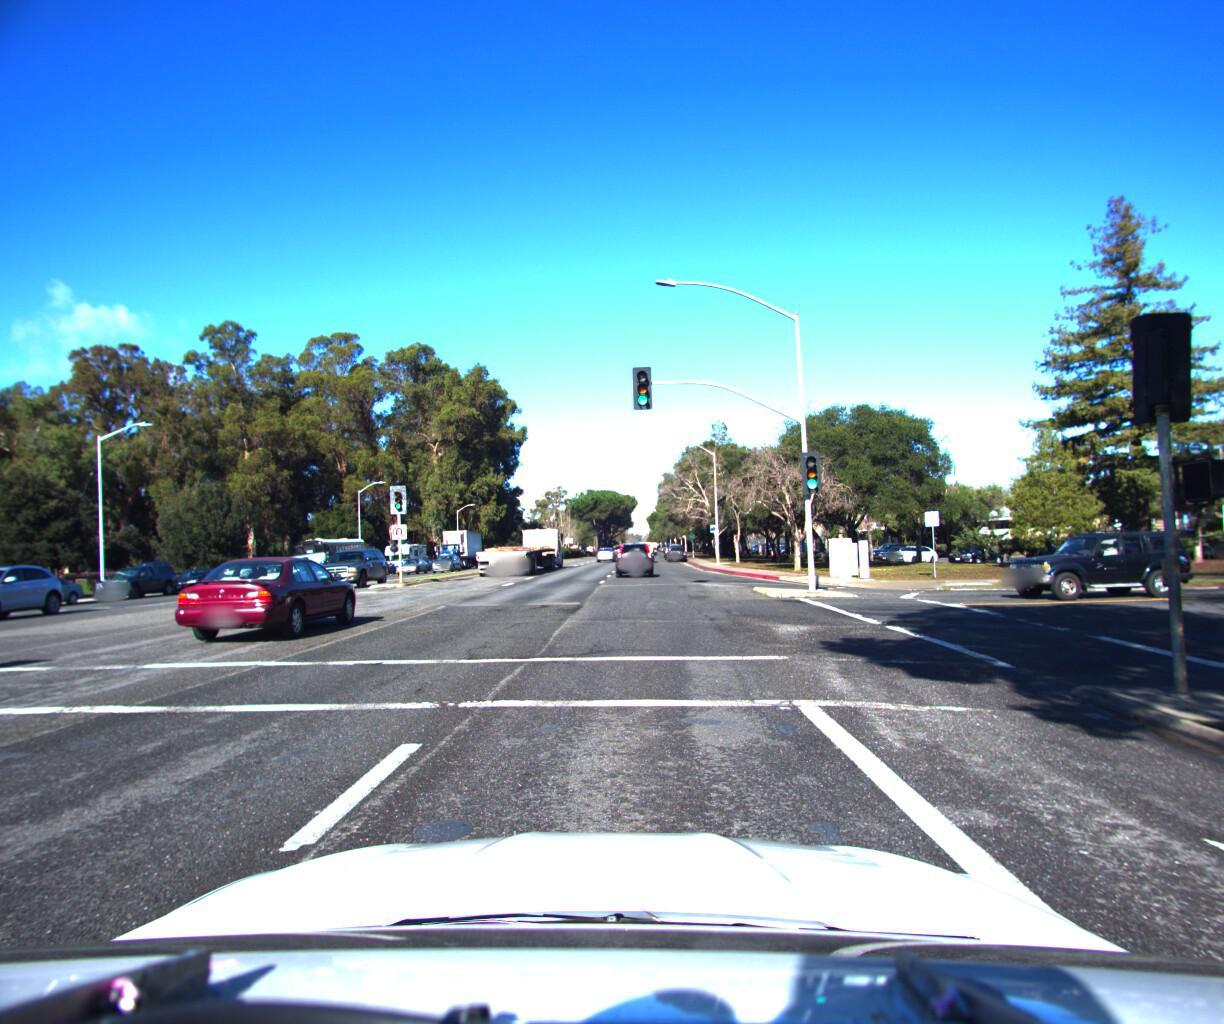bus: (288, 529, 369, 579)
car: (171, 549, 367, 650), (988, 517, 1197, 598), (0, 558, 80, 631), (88, 555, 182, 600), (309, 539, 390, 587), (0, 570, 91, 611), (265, 550, 335, 583), (162, 561, 233, 593), (610, 532, 656, 575), (392, 548, 431, 573), (0, 574, 16, 624), (430, 548, 463, 568), (592, 539, 615, 560), (663, 538, 685, 555)
truck: (474, 500, 573, 580), (426, 523, 489, 567)
